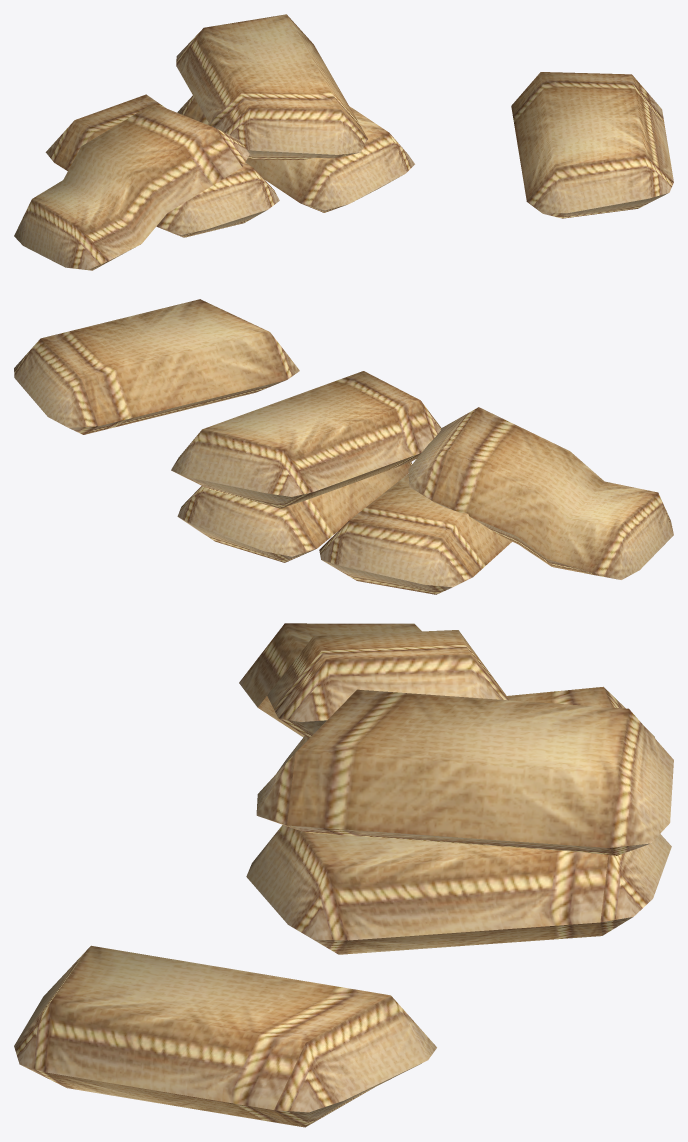
Rendered from szc_object_tanwei22_1a.FBX.
3 renders of one model, top to bottom at view 1: azimuth 30°, elevation 25°; view 2: azimuth 150°, elevation 25°; view 3: azimuth 270°, elevation 25°, orthographic. The views are drawn at different scales.
Parts seen in each view (by area): view 1: szc_object_tanwei22_1a; view 2: szc_object_tanwei22_1a; view 3: szc_object_tanwei22_1a.
Part boxes in pixels (x1,y1,x2,y2): szc_object_tanwei22_1a: (14,14,673,270); szc_object_tanwei22_1a: (14,299,673,594); szc_object_tanwei22_1a: (14,623,673,1127).
Bounding box in the file's own units: 302 × 55.55 × 181.
